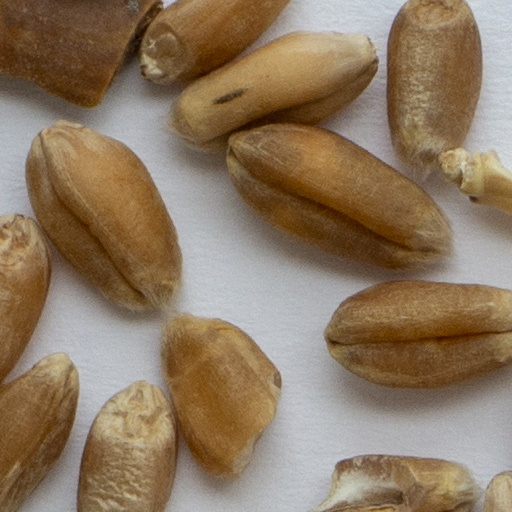Peel-poly: (0, 0, 163, 107), (433, 142, 511, 221)
Wheat-grain-damaged-poly: (158, 305, 282, 485), (292, 452, 480, 511)
